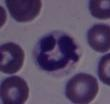N: (31, 30, 80, 76)
